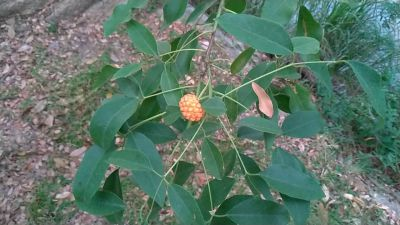eggs: (179, 94, 206, 122)
